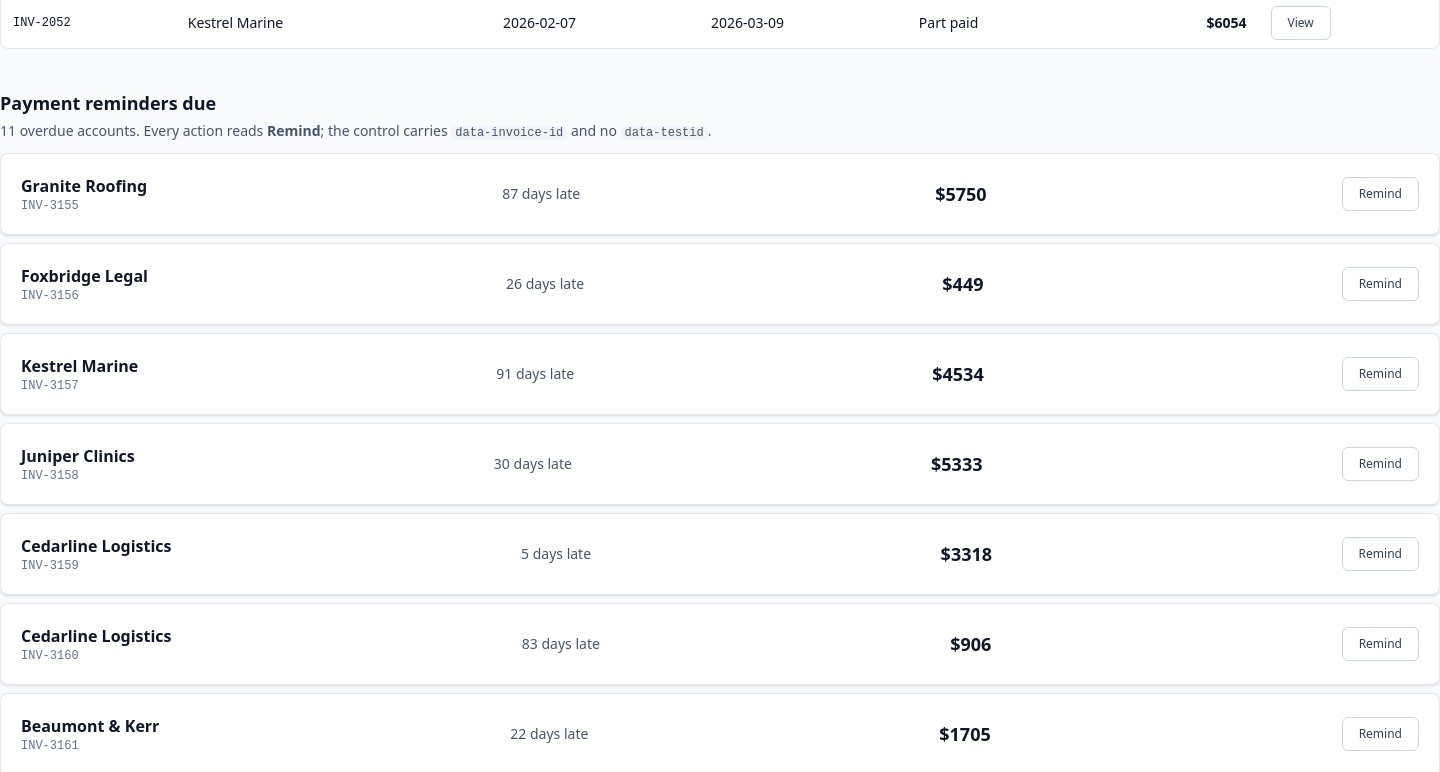
Test: /practice/invoices — marked row actions › the actions actually do something — a dead button is not a target
(page scrolled)
Click the button "Remind" in the row of "INV-3157": (1380,374) [1342,357,1419,391]
(page scrolled)
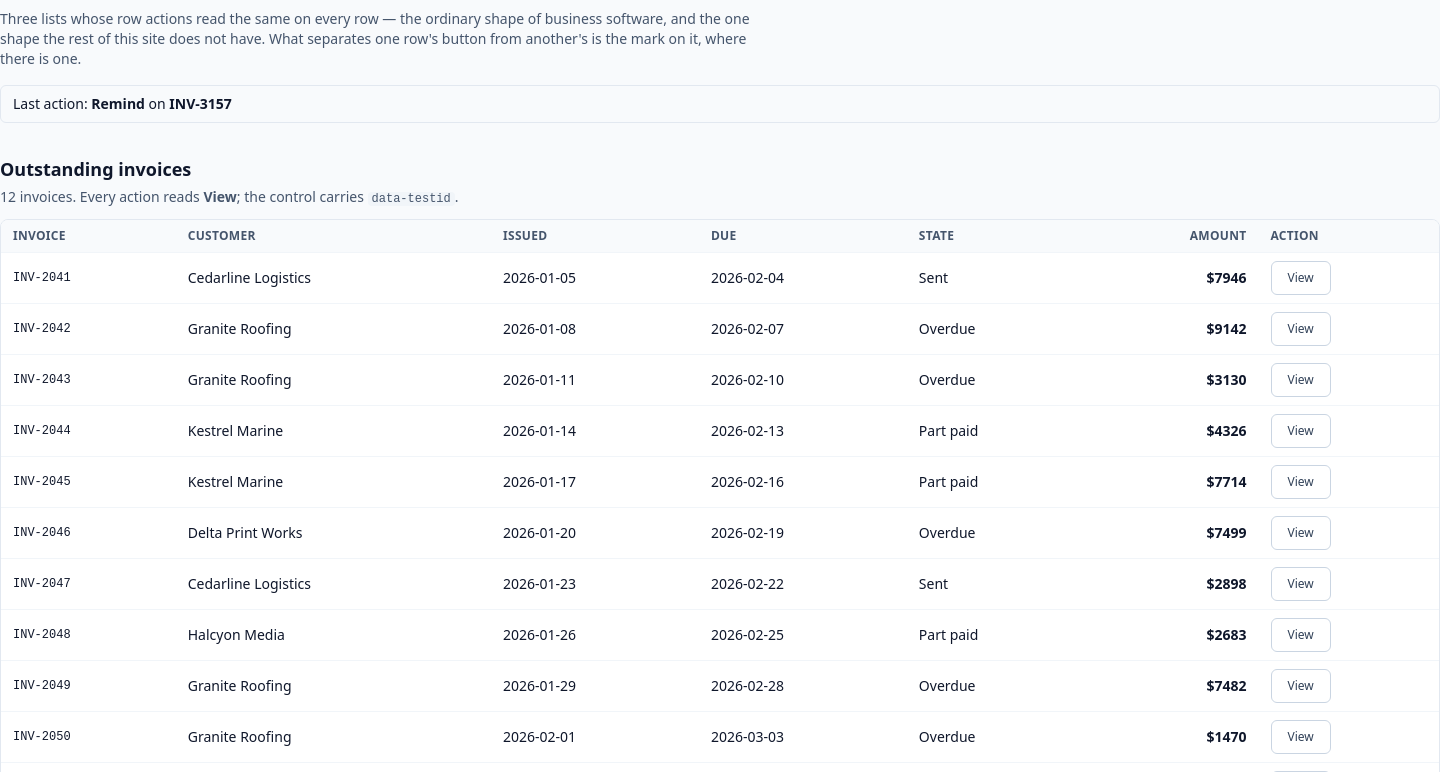
Expected: the element with test id "ar-last-action" shows "Remind", [91,94,145,113]
